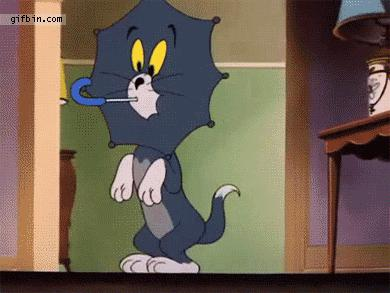tom: (79, 1, 242, 275)
